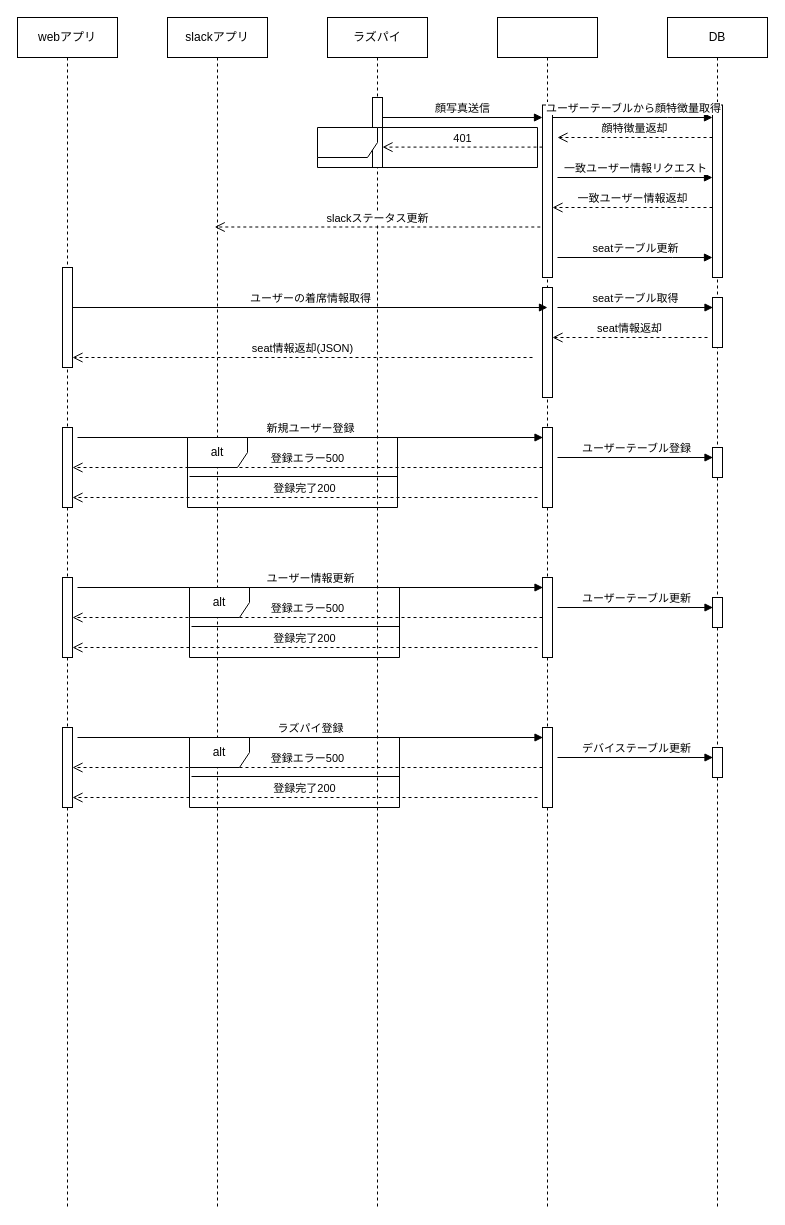
Some shapes in this 785 by 1225 pixel diagram are drawn without their labels. The centre of each missing label's shape, as x and y in pixels:
"not found" belongs at point (427, 147).
"サーバー" belongs at point (547, 612).
